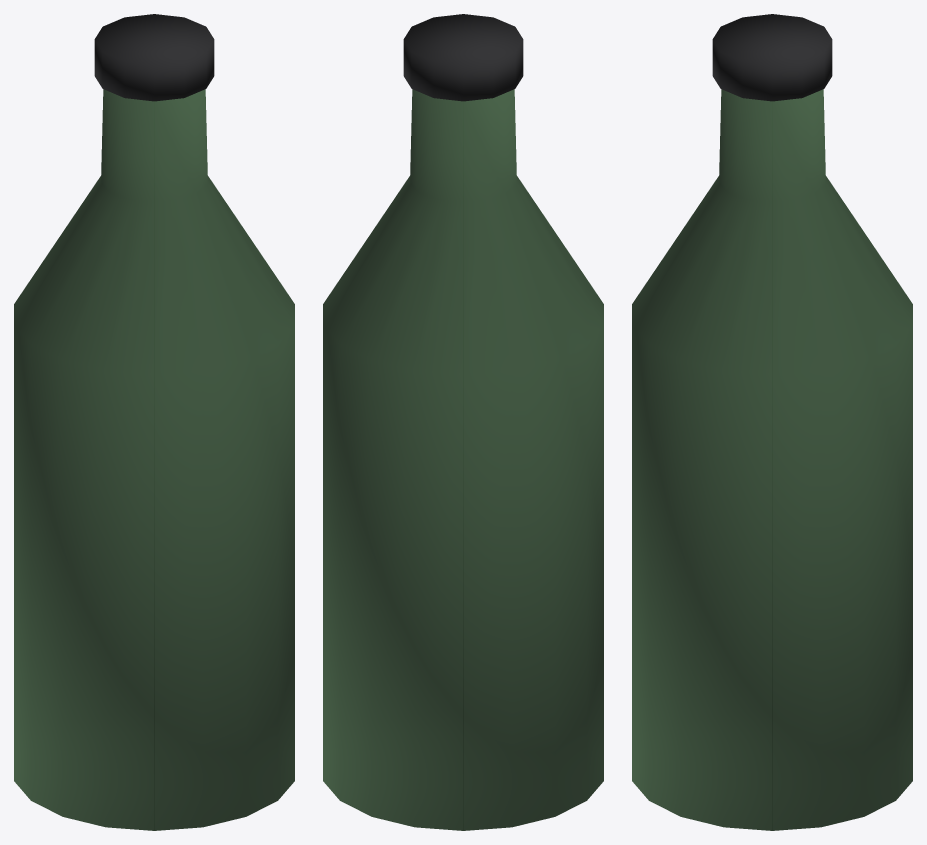
The model's file is i_bottle_6.glb.
3 renders of one model, left to right at view 1: azimuth 30°, elevation 25°; view 2: azimuth 150°, elevation 25°; view 3: azimuth 270°, elevation 25°, orthographic.
Parts seen in each view (by area): view 1: o, o.001; view 2: o, o.001; view 3: o, o.001.
Boxes of the visible parts, box(x1,y1,x2,y2) form: o: box(14, 89, 294, 830); o.001: box(94, 14, 214, 101); o: box(323, 89, 603, 830); o.001: box(403, 14, 523, 101); o: box(632, 89, 912, 830); o.001: box(712, 14, 832, 101).
Bounding box in the file's own units: 0.14 × 0.3964 × 0.1379.
